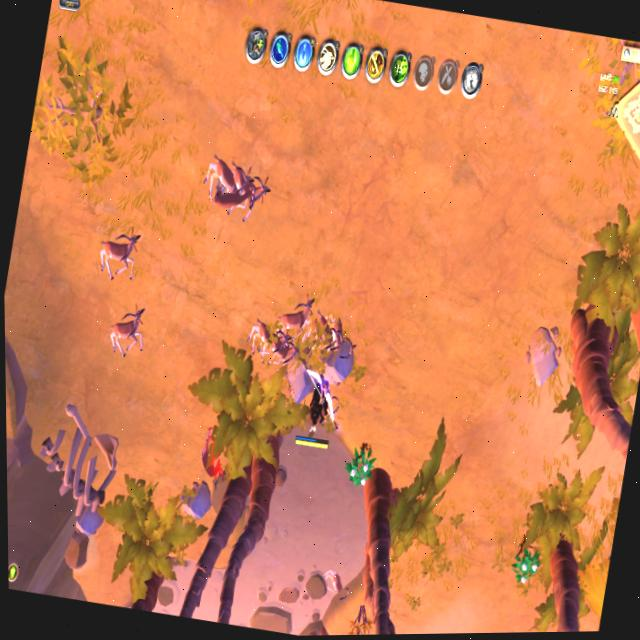hide: (342, 442, 377, 492), (510, 543, 541, 588), (342, 602, 376, 635)
mob: (194, 148, 273, 229), (90, 217, 145, 290), (102, 300, 152, 367), (242, 316, 304, 370), (272, 288, 318, 349), (306, 308, 351, 355), (318, 564, 354, 604)
ore: (193, 421, 234, 493), (206, 169, 260, 216)
red: (293, 378, 341, 455)
